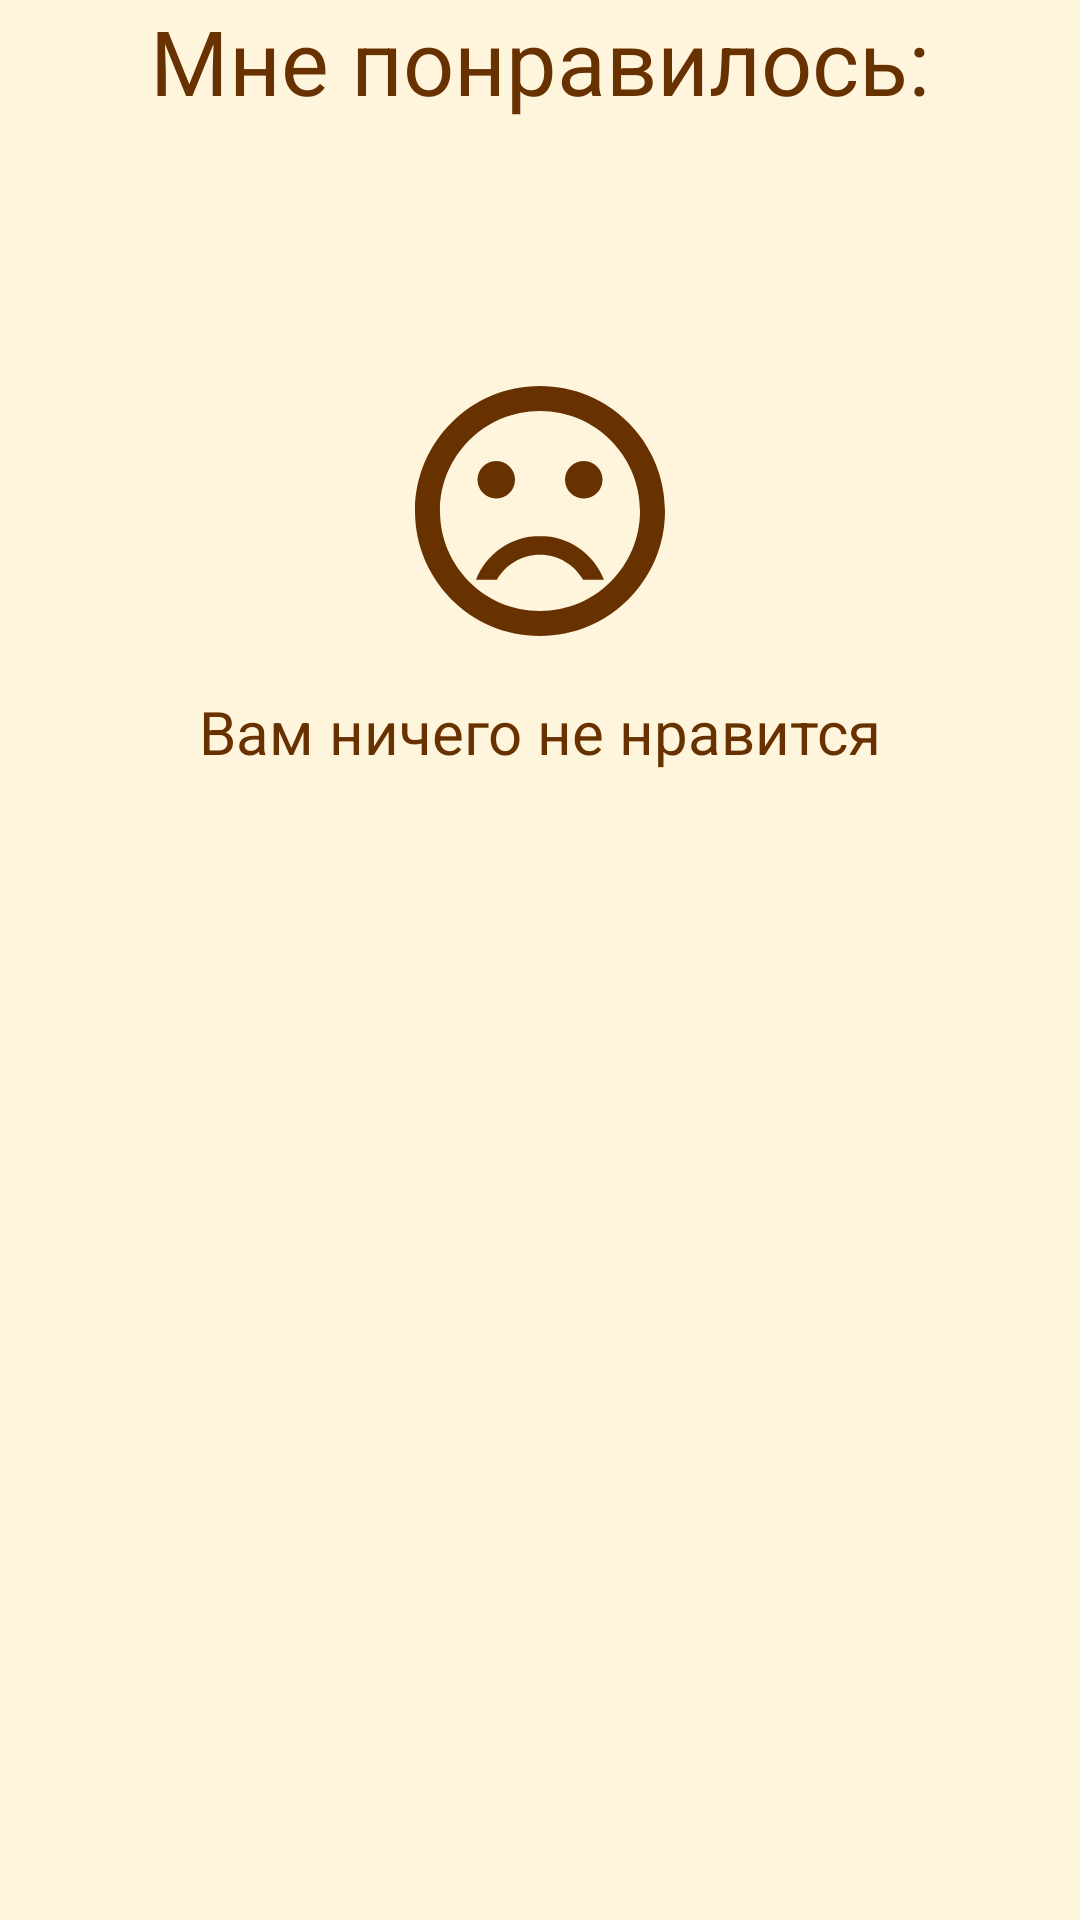

Screen size 1080px x 1920px. Icon name, then its box in pixels as (x1, y1, x2, y2):
sad: (415, 386, 665, 636)
